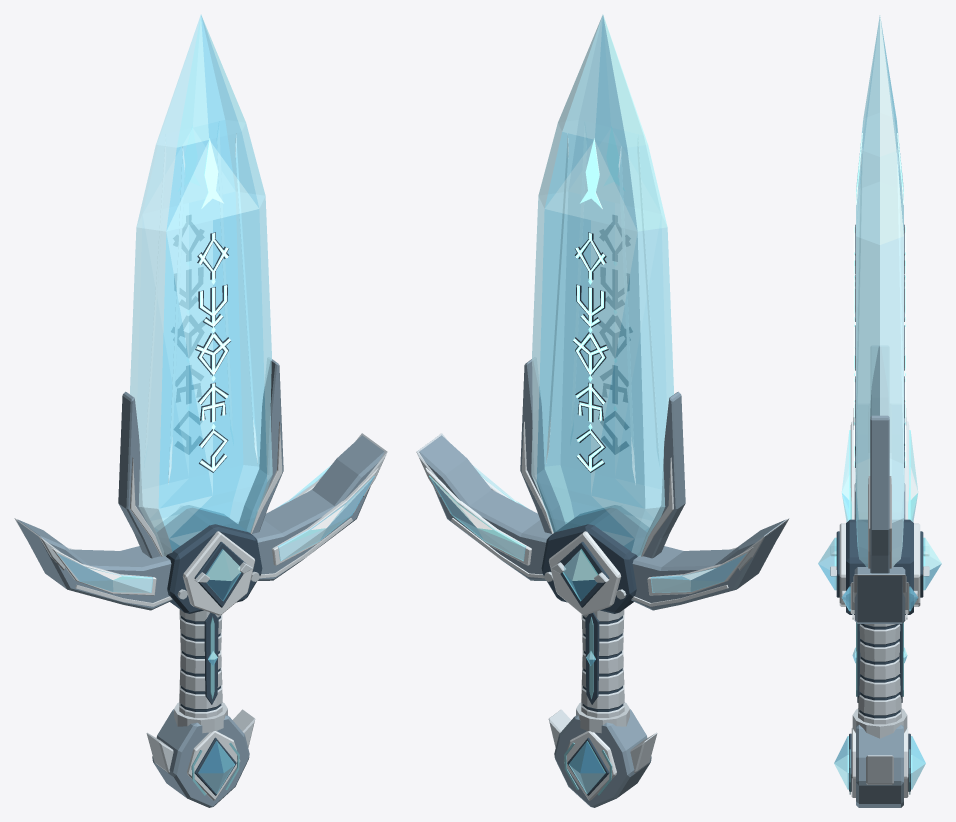
The picture shows the model from 3 angles, left to right: view 1: azimuth 30°, elevation 25°; view 2: azimuth 150°, elevation 25°; view 3: azimuth 270°, elevation 25°; orthographic projection.
Parts seen in each view (by area): view 1: Blade | monolithic translucent crystal, Guard | Left angular titanium wing, Guard | Right angular titanium wing, Guard | central forged keystone, Pommel | colossal titanium counterweight, Grip | continuous grooved pale titanium, Blade | Left titanium root talon, Blade | Right titanium root talon, Blade | Back rune recess outlines, Guard | silver heraldic escutcheon -1, Guard | Left raised silver channel -1, Guard | Right raised silver channel -1 (+15 smaller); view 2: Blade | monolithic translucent crystal, Guard | Left angular titanium wing, Guard | Right angular titanium wing, Guard | central forged keystone, Pommel | colossal titanium counterweight, Grip | continuous grooved pale titanium, Blade | Left titanium root talon, Blade | Right titanium root talon, Blade | Front rune recess outlines, Guard | silver heraldic escutcheon 1, Guard | Left raised silver channel 1, Guard | Right raised silver channel 1 (+16 smaller); view 3: Blade | monolithic translucent crystal, Grip | continuous grooved pale titanium, Blade | Left titanium root talon, Pommel | colossal titanium counterweight, Guard | Left angular titanium wing, Guard | central forged keystone, Blade | Right titanium root talon, Pommel | Left angular crown fin, Pommel | interlocking handle collar, Guard | Right faceted glacial inlay -1, Guard | Right faceted glacial inlay 1, Guard | silver heraldic escutcheon -1 (+20 smaller).
Boxes of the visible parts, x1,y1,x2,y2 form: Blade | monolithic translucent crystal: (129, 14, 272, 556); Guard | Left angular titanium wing: (252, 435, 384, 580); Guard | Right angular titanium wing: (17, 519, 172, 610); Guard | central forged keystone: (157, 505, 262, 613); Pommel | colossal titanium counterweight: (152, 709, 249, 807); Grip | continuous grooved pale titanium: (179, 609, 222, 717); Blade | Left titanium root talon: (238, 359, 283, 533); Blade | Right titanium root talon: (118, 391, 163, 558); Blade | Back rune recess outlines: (171, 215, 204, 454); Guard | silver heraldic escutcheon -1: (182, 531, 254, 615); Guard | Left raised silver channel -1: (272, 467, 378, 565); Guard | Right raised silver channel -1: (51, 547, 156, 595); Blade | monolithic translucent crystal: (531, 14, 674, 556); Guard | Left angular titanium wing: (419, 435, 566, 580); Guard | Right angular titanium wing: (631, 519, 786, 610); Guard | central forged keystone: (541, 505, 648, 613); Pommel | colossal titanium counterweight: (554, 709, 651, 807); Grip | continuous grooved pale titanium: (581, 609, 624, 717); Blade | Left titanium root talon: (520, 359, 565, 533); Blade | Right titanium root talon: (640, 391, 685, 558); Blade | Front rune recess outlines: (599, 215, 632, 454); Guard | silver heraldic escutcheon 1: (549, 531, 621, 615); Guard | Left raised silver channel 1: (425, 467, 531, 565); Guard | Right raised silver channel 1: (647, 547, 752, 595); Blade | monolithic translucent crystal: (856, 15, 903, 567); Grip | continuous grooved pale titanium: (858, 624, 901, 724); Blade | Left titanium root talon: (870, 415, 889, 573); Pommel | colossal titanium counterweight: (856, 725, 903, 807); Guard | Left angular titanium wing: (854, 567, 905, 623); Guard | central forged keystone: (846, 519, 913, 614); Blade | Right titanium root talon: (870, 346, 889, 416); Pommel | Left angular crown fin: (866, 755, 893, 784); Pommel | interlocking handle collar: (852, 708, 907, 738); Guard | Right faceted glacial inlay -1: (841, 430, 851, 521); Guard | Right faceted glacial inlay 1: (908, 430, 918, 521); Guard | silver heraldic escutcheon -1: (839, 523, 845, 606).
Size of the model in its own units: 0.9269 by 2 by 0.2834.
